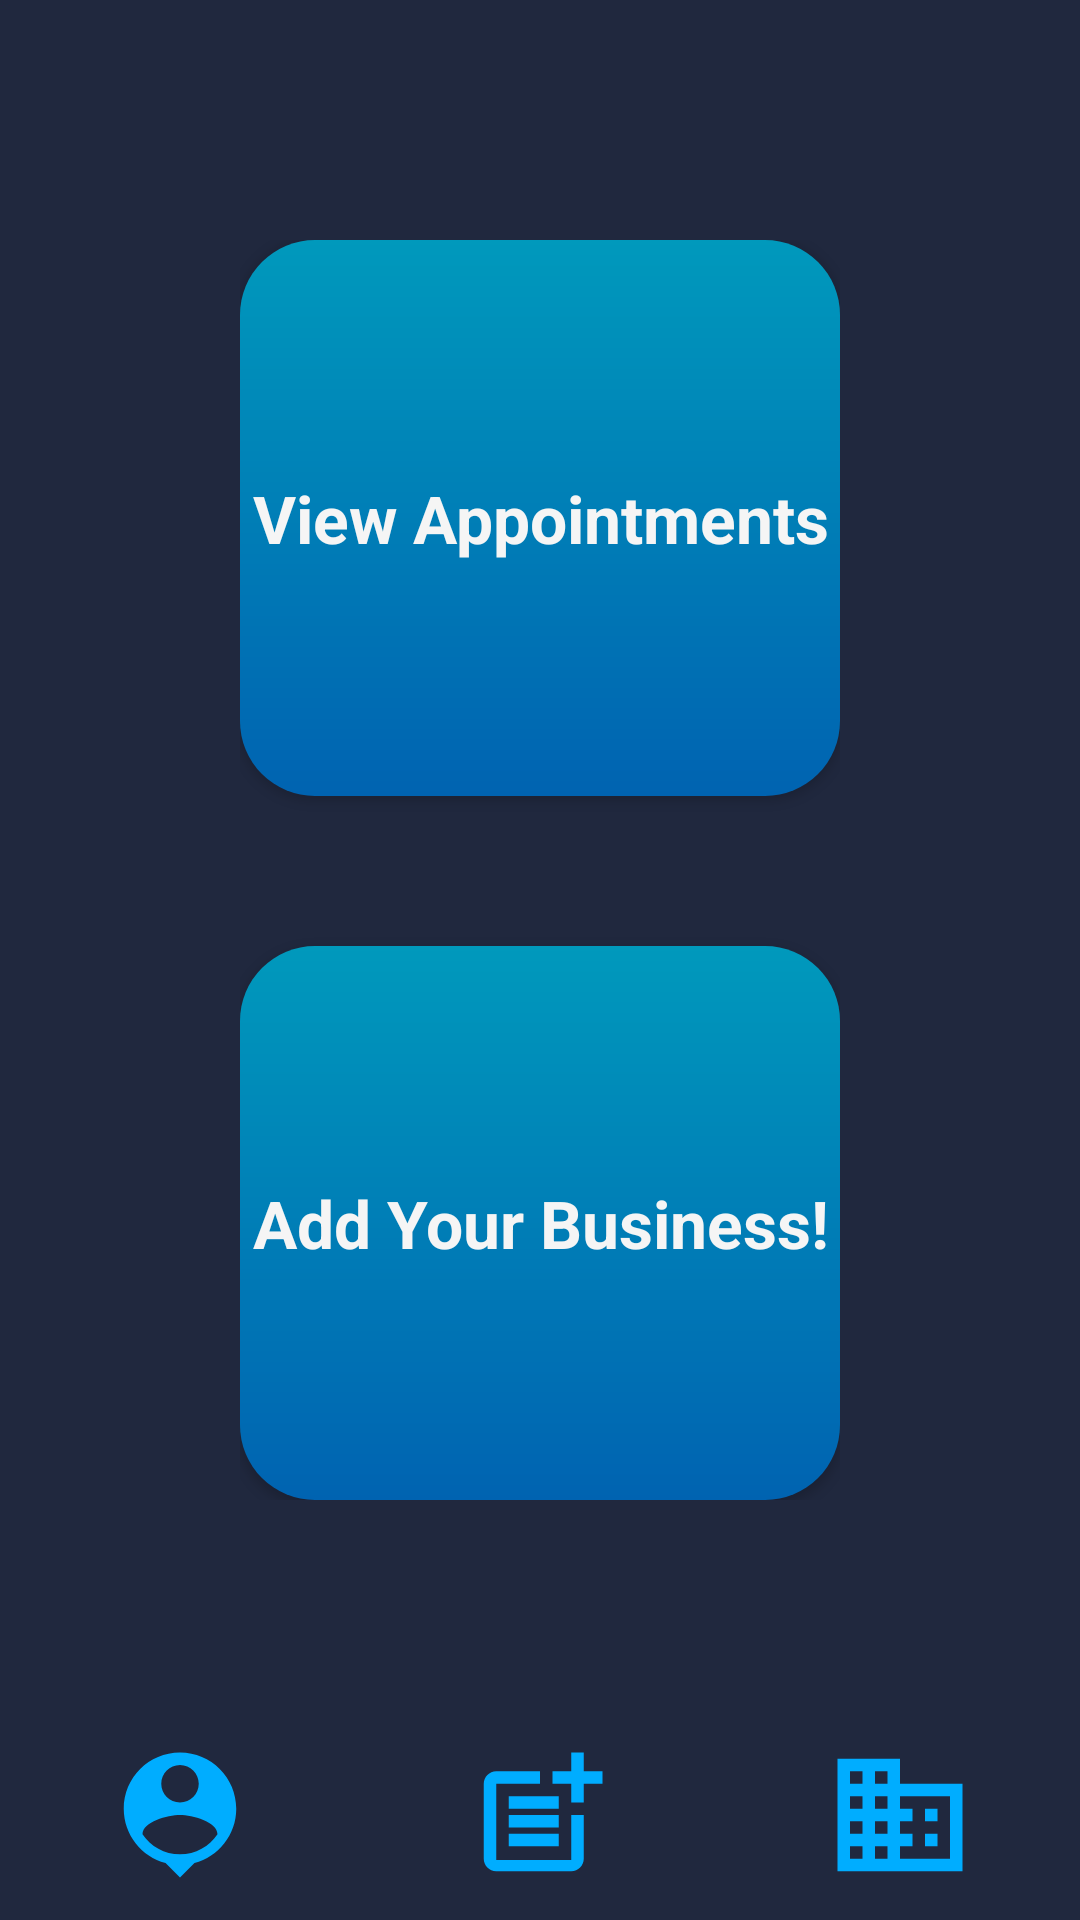

Named icons in this screenshot (1080 x 1920) and their centers, (x=x, y=y):
Booking Page ImageView: (x=543, y=1812)
Business Needs ImageView: (x=900, y=1815)
Personal Page Image: (x=180, y=1815)
